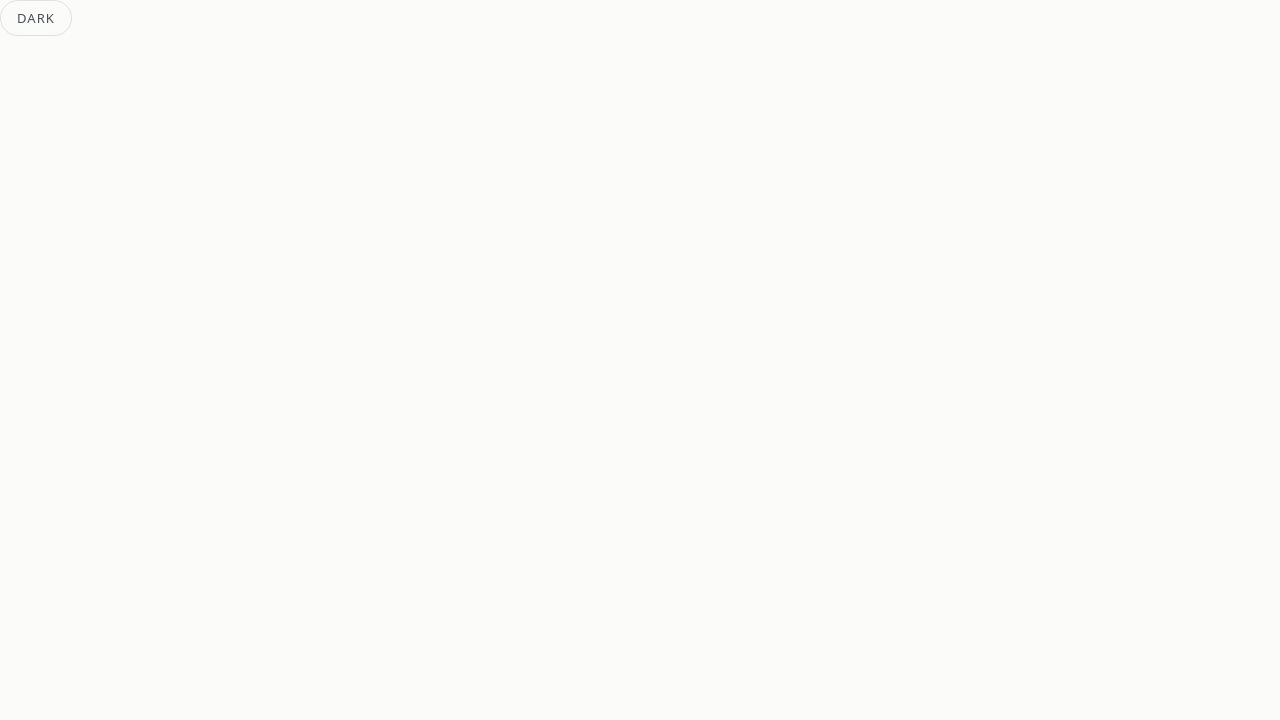
Test case: ThemeToggle › toggles the theme and remembers the choice
Click the button at (36, 18), box [0,0,72,36]
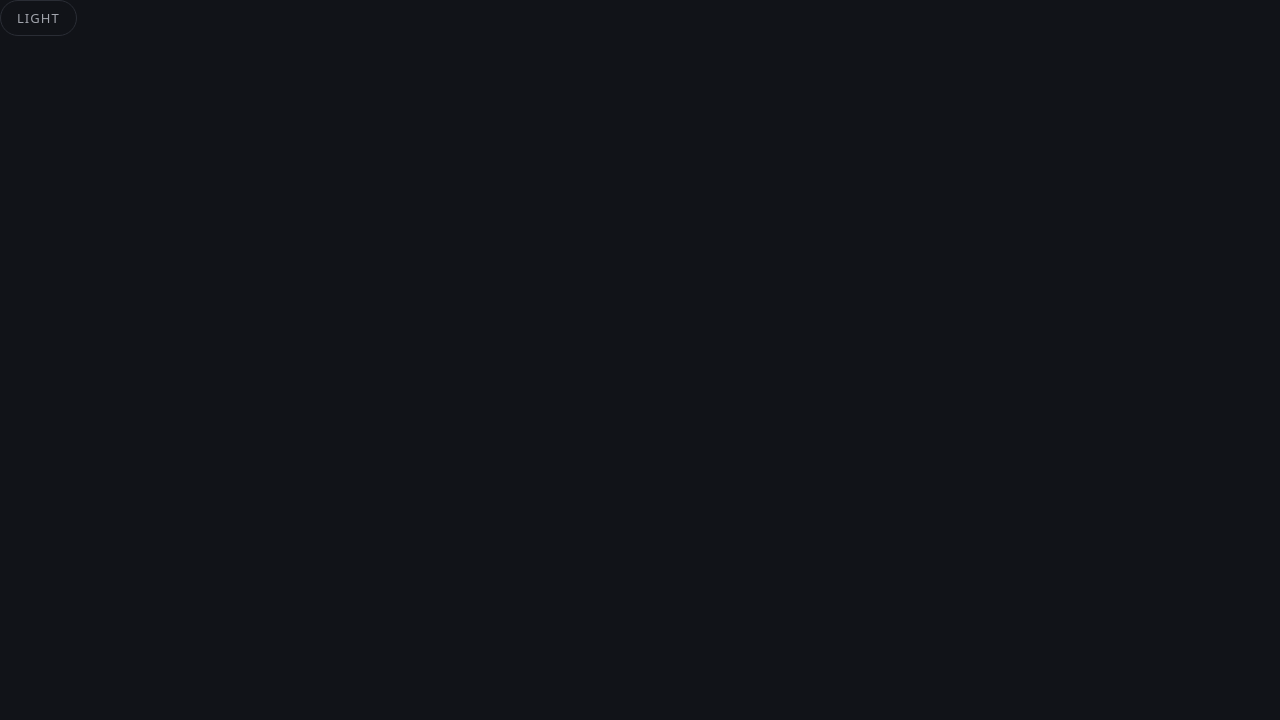
Now the button with aria-label "Switch to light theme" is shown, box [0,0,77,36]
